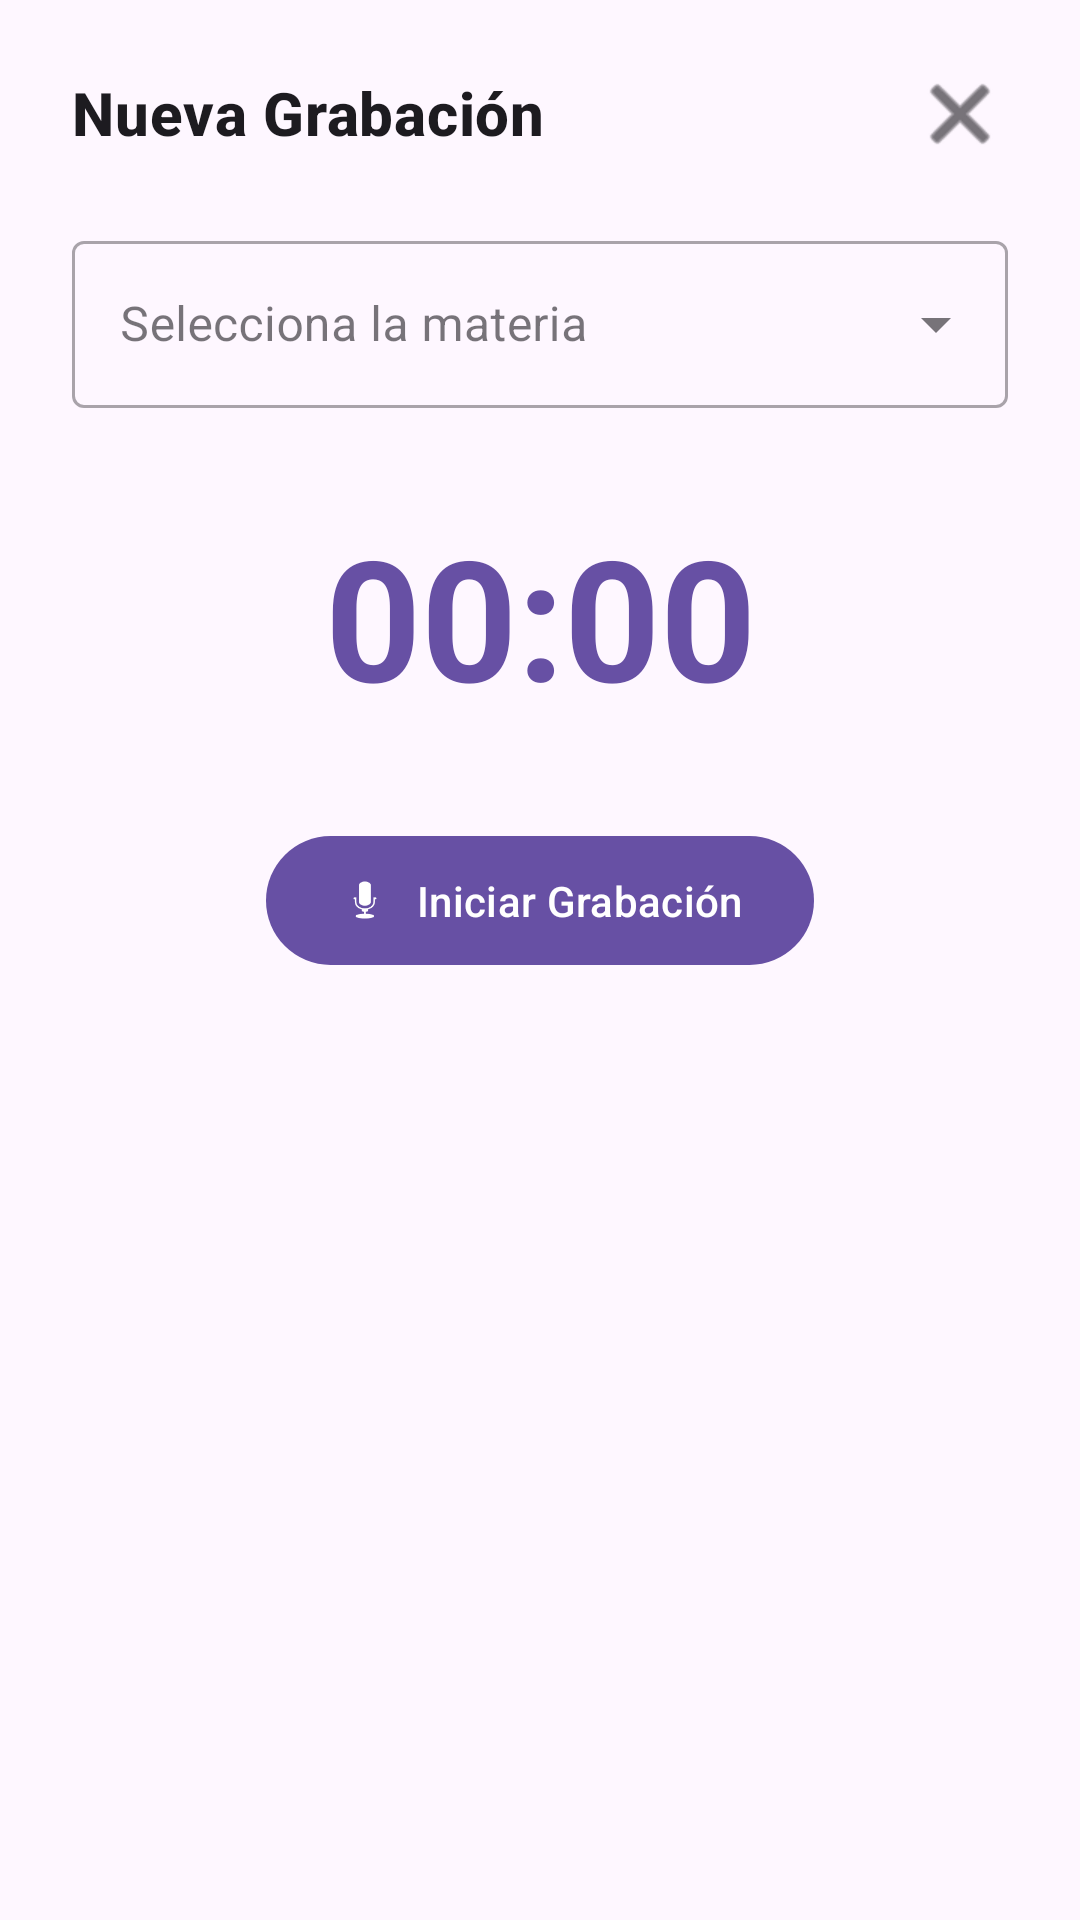

Screen size 1080 × 1920. Icon name, then its box in pixels as {"x1": x1, "y1": y1, "x2": x2, "y2": y2}:
close clear cancel: {"x1": 930, "y1": 84, "x2": 990, "y2": 144}
